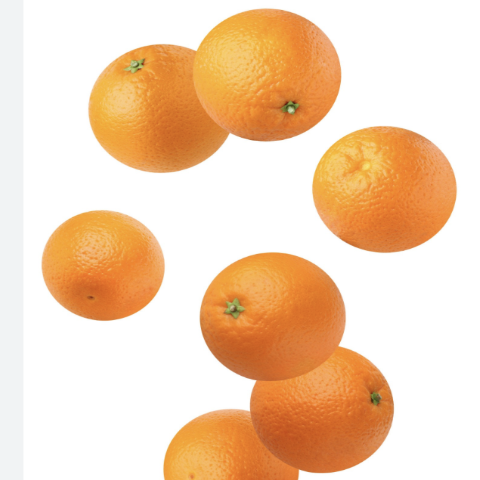orange: (185, 0, 350, 147), (305, 124, 468, 272), (236, 339, 416, 473), (78, 39, 241, 175), (190, 250, 350, 386), (39, 201, 165, 326), (154, 395, 301, 480)
